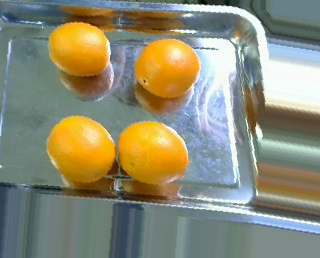Orange: (45, 114, 116, 184), (117, 119, 190, 186), (134, 38, 200, 97), (47, 20, 111, 76)
